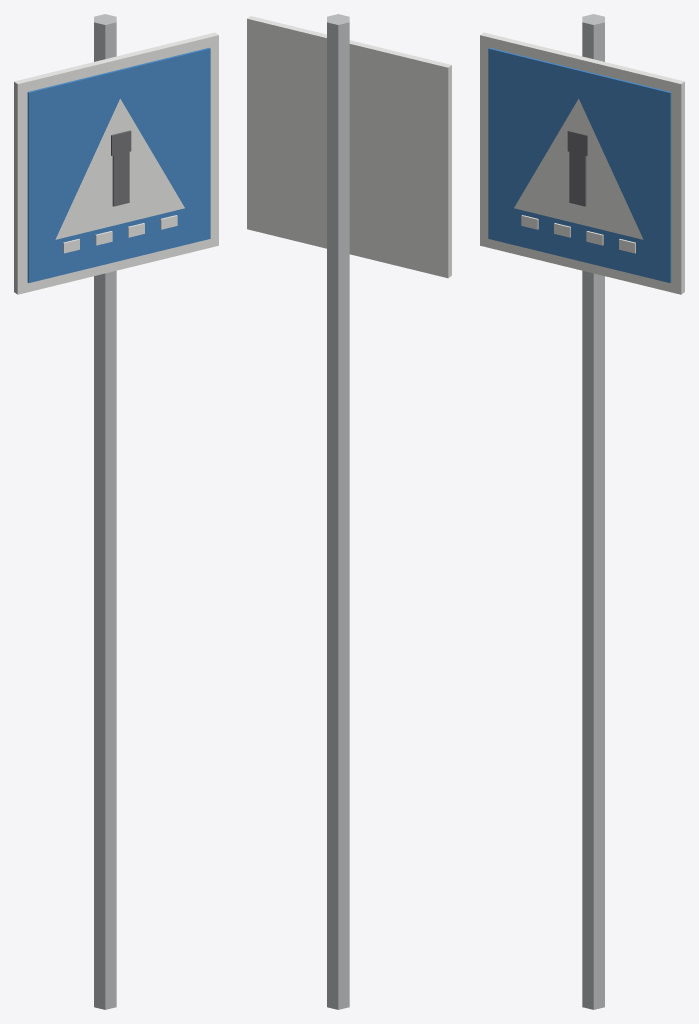
File: HK_Sign_Crosswalk.glb
The picture shows the model from 3 angles, left to right: view 1: azimuth 30°, elevation 25°; view 2: azimuth 150°, elevation 25°; view 3: azimuth 330°, elevation 25°; orthographic projection.
Visible parts, largest first — view 1: HK_Sign_Crosswalk; view 2: HK_Sign_Crosswalk; view 3: HK_Sign_Crosswalk.
Boxes of the visible parts, left/top/right/bottom form: HK_Sign_Crosswalk: left=14, top=14, right=218, bottom=1009; HK_Sign_Crosswalk: left=247, top=14, right=451, bottom=1009; HK_Sign_Crosswalk: left=480, top=14, right=684, bottom=1009.
Size of the model in its own units: 0.62 by 2.9 by 0.1178.
